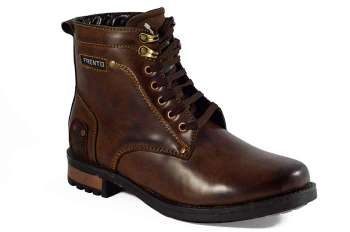Footwear: (60, 4, 323, 224)
